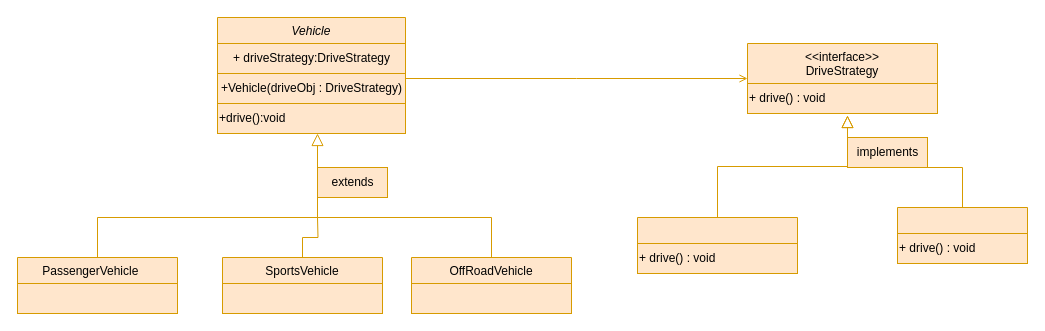
Some shapes in this 1045 by 331 pixel diagram are drawn without their labels. Each missing label, with the box of its shape:
+OffRoadVehicle(): (410, 282, 572, 314)
+PassengerVehicle(): (16, 282, 178, 314)
+SportsVehicle(): (222, 282, 382, 314)
NormalDriveStrategy: (636, 216, 798, 274)
SportsDriveStrategy: (896, 206, 1028, 264)
